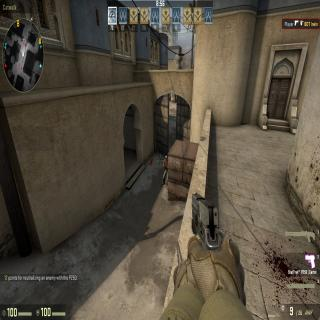T-Body: (162, 155, 168, 185)
T-Head: (165, 155, 167, 161)
